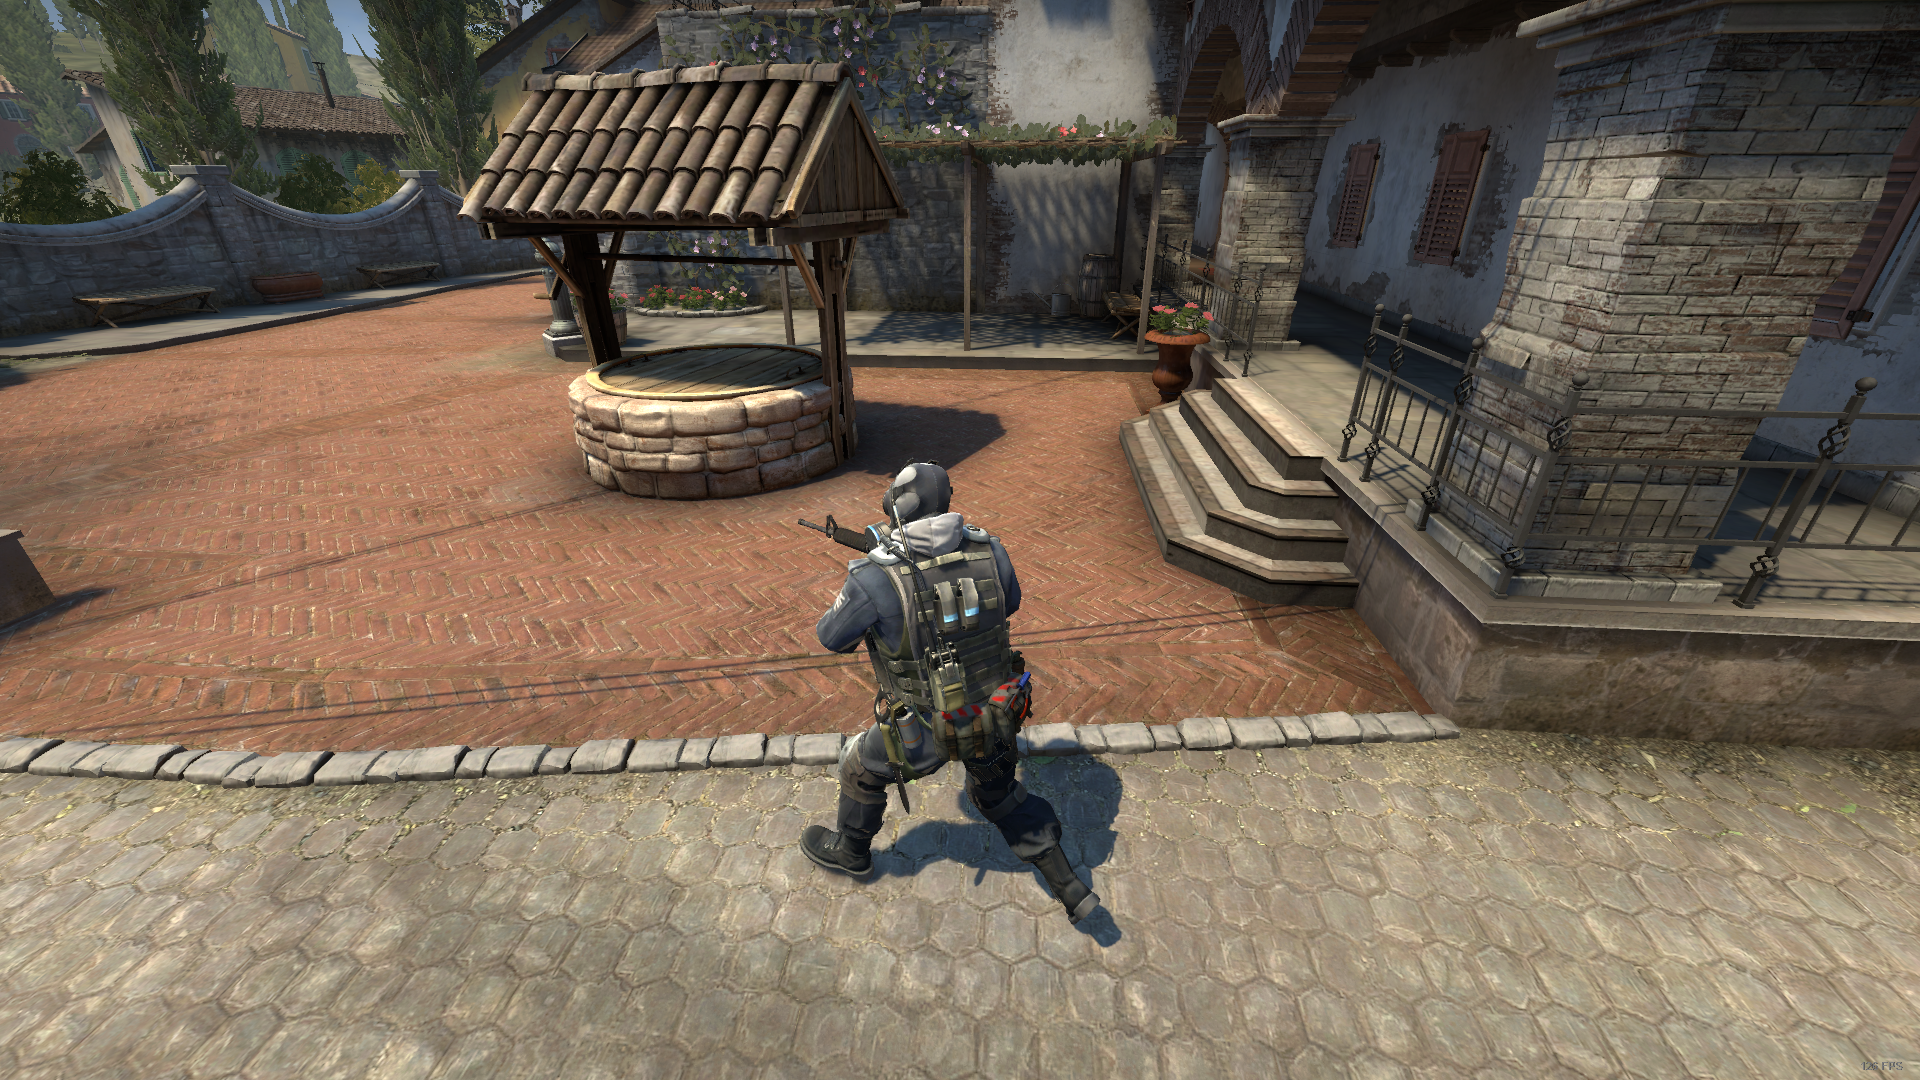ct: (800, 462, 1112, 919)
